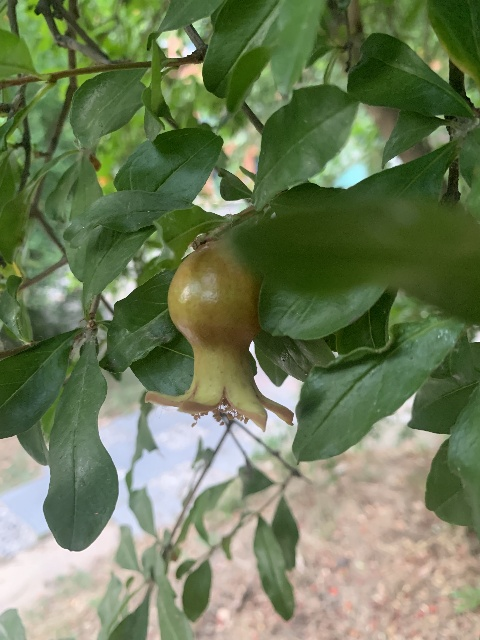early-fruit: (143, 242, 294, 430)
